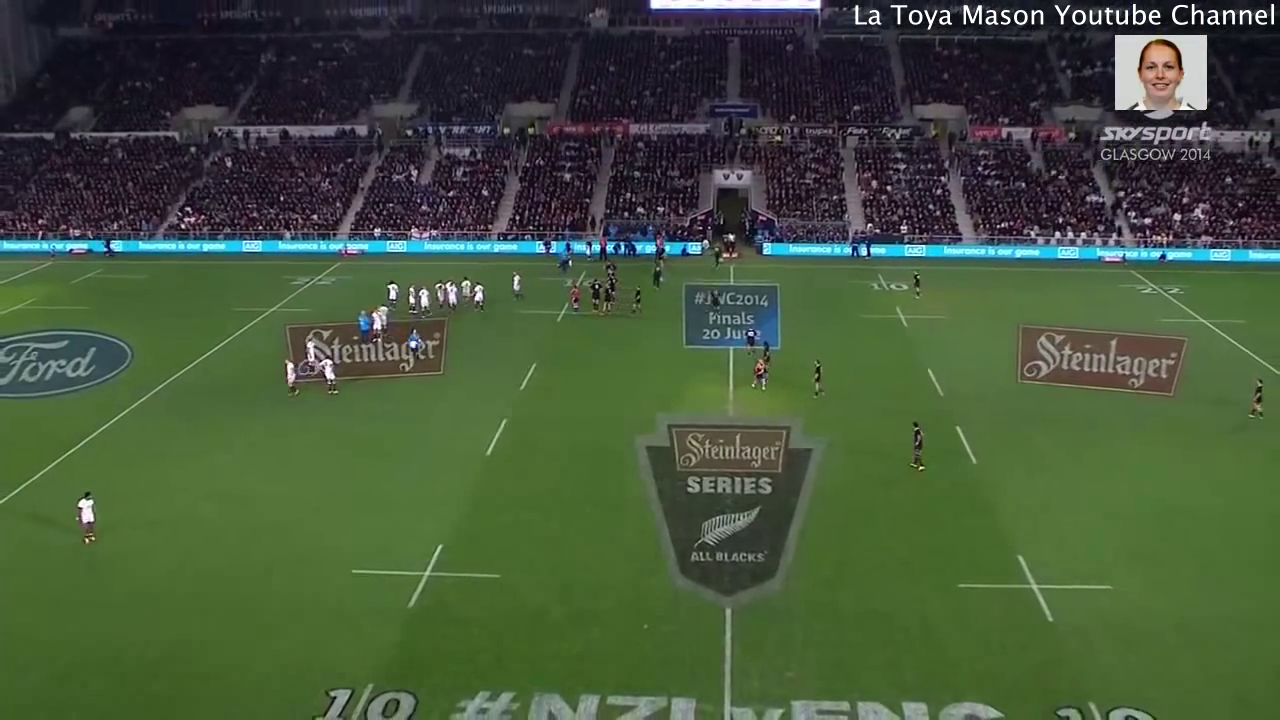10_metre: (956, 551, 1122, 625), (349, 542, 507, 612), (857, 304, 954, 329), (516, 300, 612, 322), (536, 269, 620, 291), (850, 270, 920, 294)
player: (68, 488, 105, 547), (906, 417, 934, 480), (1248, 371, 1271, 424), (281, 356, 307, 400), (315, 352, 341, 395), (808, 355, 829, 399), (412, 287, 436, 319), (299, 333, 319, 369), (909, 267, 929, 299), (353, 308, 370, 344), (752, 355, 768, 393), (429, 275, 446, 310), (444, 280, 461, 315), (456, 275, 474, 308), (566, 282, 583, 315), (366, 307, 383, 338), (384, 275, 399, 309), (470, 282, 486, 313), (629, 283, 643, 318), (377, 306, 392, 338), (586, 279, 600, 313), (403, 282, 418, 313), (742, 325, 756, 358), (508, 269, 522, 301), (709, 288, 724, 317), (601, 284, 613, 317), (649, 264, 663, 292), (762, 337, 774, 364), (607, 273, 617, 291), (606, 263, 617, 277)
